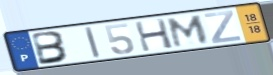5: (102, 21, 136, 55)
B: (30, 30, 71, 67)
H: (132, 17, 176, 53)
I: (83, 25, 103, 60)
M: (167, 14, 211, 49)
Z: (202, 9, 243, 45)
